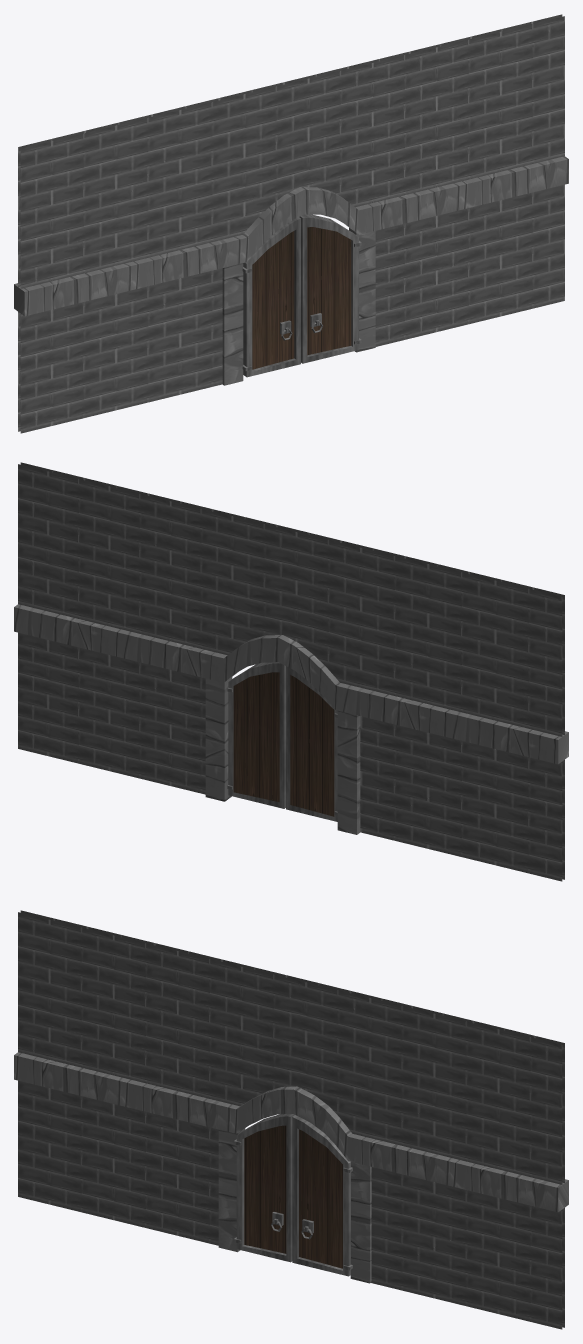
The model's file is Dungeon_Wall_Door.fbx.
3 views of the same model, one above another, from view 1: azimuth 30°, elevation 25°; view 2: azimuth 150°, elevation 25°; view 3: azimuth 330°, elevation 25° (orthographic).
Visible parts, largest first — view 1: Wall1, Right_Door, Left_Door; view 2: Wall1, Right_Door, Left_Door; view 3: Wall1, Right_Door, Left_Door.
Part boxes in pixels (x1,y1,x2,y2): Wall1: (14, 14, 568, 433); Right_Door: (299, 214, 361, 363); Left_Door: (242, 217, 300, 377); Wall1: (14, 462, 568, 881); Right_Door: (227, 662, 285, 808); Left_Door: (286, 666, 337, 821); Wall1: (14, 910, 568, 1329); Right_Door: (292, 1115, 352, 1276); Left_Door: (234, 1114, 294, 1262).
Size of the model in its own units: 0.24 by 0.1201 by 0.00891.
